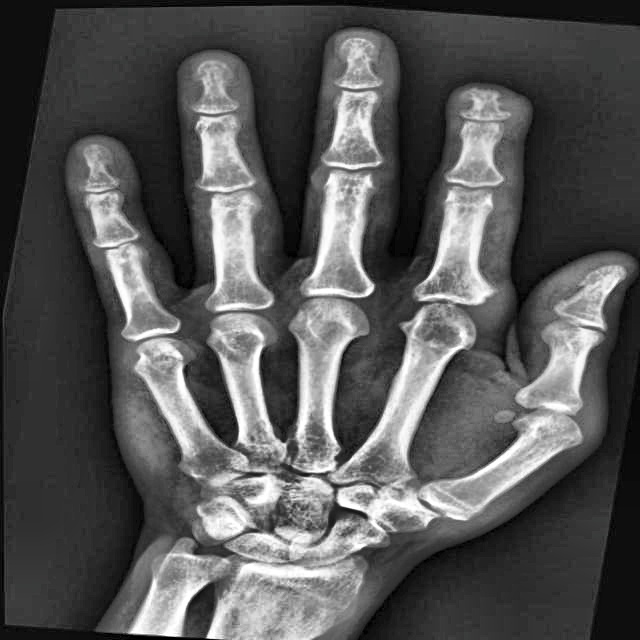Comminuted: (441, 77, 531, 132)
